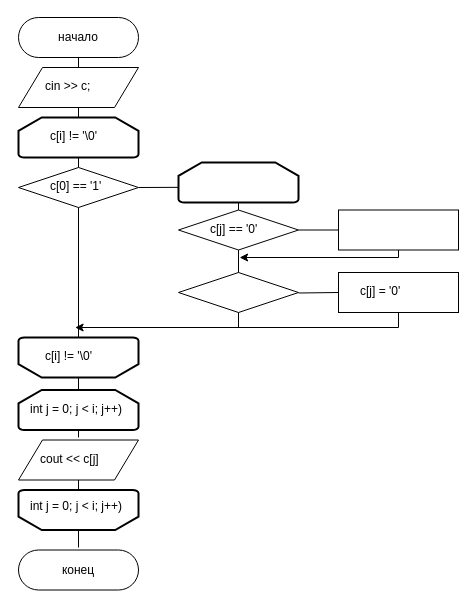
Some shapes in this 476 by 608 pixel diagram are drawn without their labels. Each missing label, with the box of its shape:
c[j] = '1': (338, 209, 458, 250)
c[j] == '1': (178, 272, 298, 312)
int j = 1; j < i; j++: (177, 161, 299, 203)
